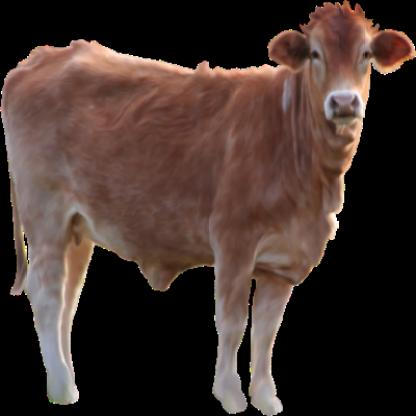lower: (340, 117, 347, 124)
mouth: (320, 87, 367, 129)
upper: (328, 95, 360, 112)
